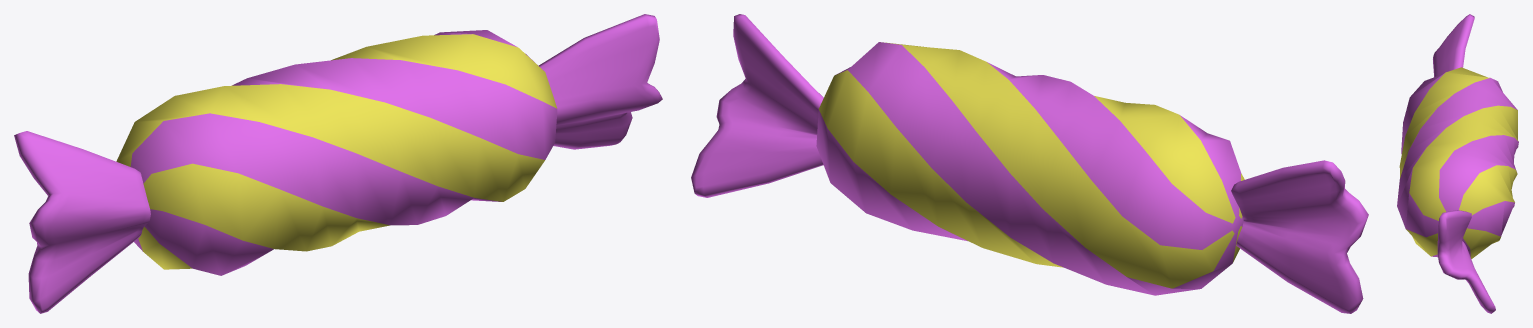
File: sugar_3.fbx
The picture shows the model from 3 angles, left to right: view 1: azimuth 30°, elevation 25°; view 2: azimuth 150°, elevation 25°; view 3: azimuth 270°, elevation 25°; orthographic projection. The views are drawn at different scales.
Parts seen in each view (by area): view 1: sugar_2; view 2: sugar_2; view 3: sugar_2.
Part boxes in pixels (x1,y1,x2,y2): sugar_2: (14,14,662,313); sugar_2: (691,14,1368,313); sugar_2: (1397,14,1518,313).
Size of the model in its own units: 69.63 by 18.03 by 18.17.
